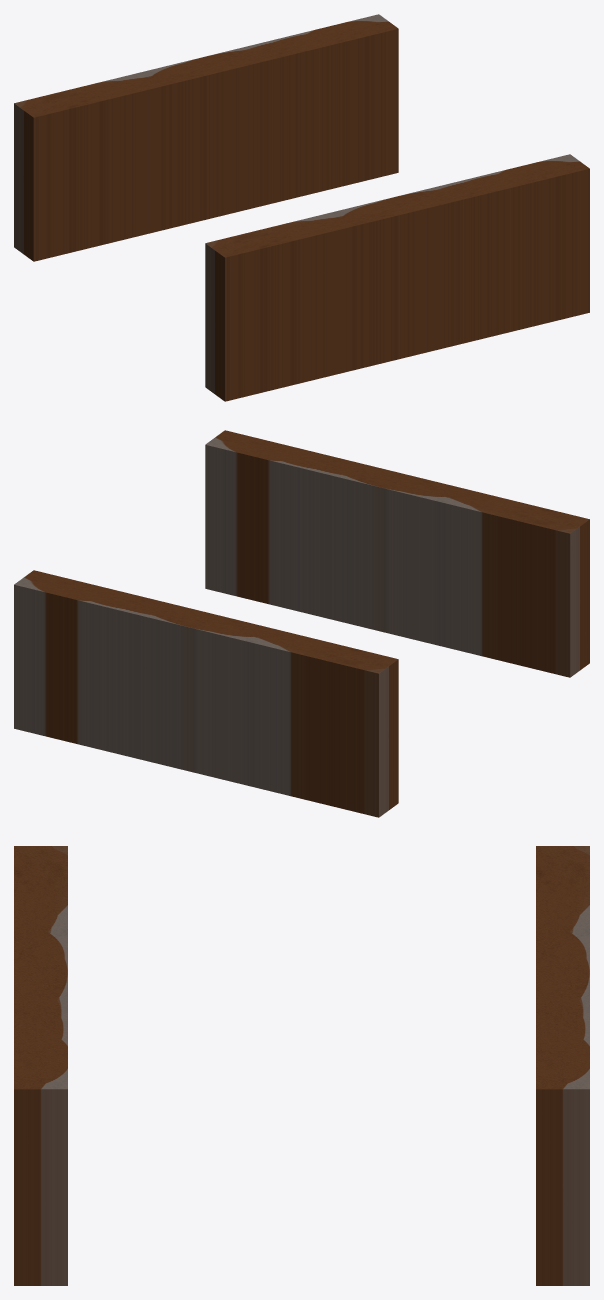
Rendered from flatRail.fbx.
The picture shows the model from 3 angles, top to bottom: view 1: azimuth 30°, elevation 25°; view 2: azimuth 150°, elevation 25°; view 3: azimuth 270°, elevation 25°; orthographic projection. The views are drawn at different scales.
Parts seen in each view (by area): view 1: polySurface25; view 2: polySurface25; view 3: polySurface25.
Boxes of the visible parts, <box> form: polySurface25: <box>14,14,589,401</box>; polySurface25: <box>14,430,589,817</box>; polySurface25: <box>14,846,589,1285</box>.
Size of the model in its own units: 1.6 by 0.6027 by 1.6.
Materials: 1 (1 with a texture image).
